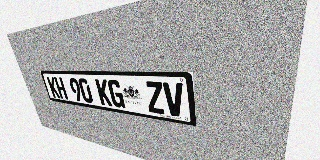0: (77, 78, 94, 103)
9: (68, 78, 84, 102)
G: (107, 79, 125, 108)
H: (54, 77, 68, 100)
K: (95, 79, 113, 106), (46, 77, 60, 98)
V: (162, 82, 185, 118)
Z: (144, 81, 166, 115)
